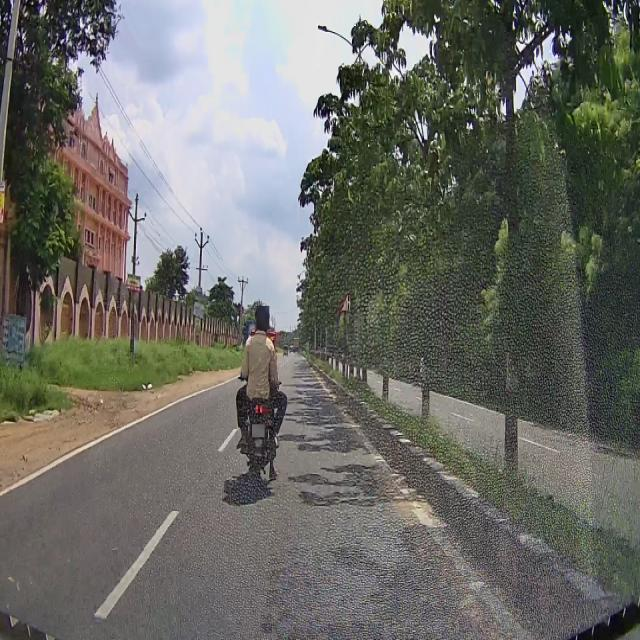motorcycle ahead at: (238, 372, 288, 490)
